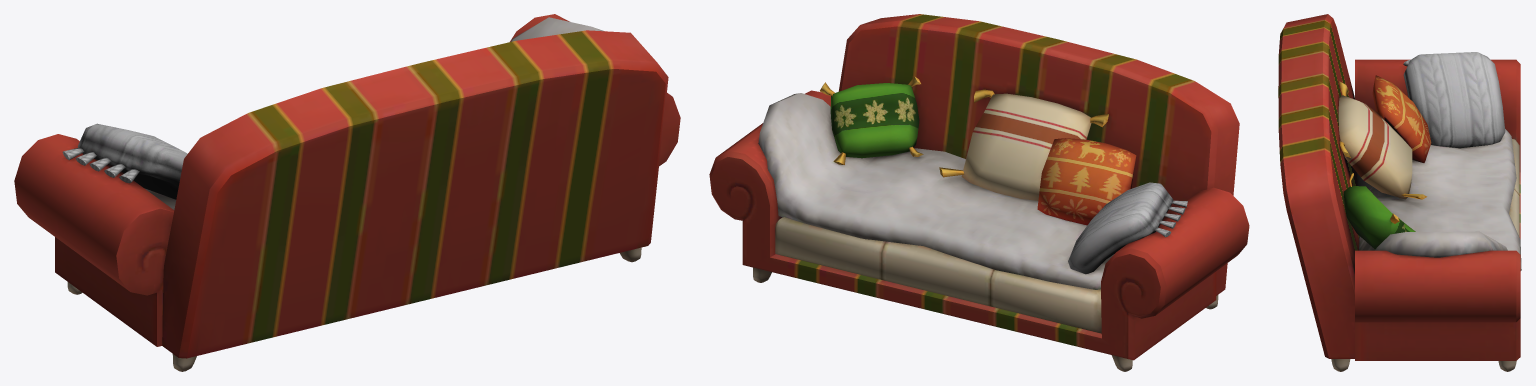
Rendered from furn_sd2016_sofa_001.gltf.
The picture shows the model from 3 angles, left to right: view 1: azimuth 30°, elevation 25°; view 2: azimuth 150°, elevation 25°; view 3: azimuth 270°, elevation 25°; orthographic projection. The views are drawn at different scales.
Parts seen in each view (by area): view 1: sd2016_sofa_001; view 2: sd2016_sofa_001; view 3: sd2016_sofa_001.
Boxes of the visible parts, x1,y1,x2,y2 form: sd2016_sofa_001: (14, 14, 680, 371); sd2016_sofa_001: (709, 14, 1249, 371); sd2016_sofa_001: (1278, 14, 1521, 371).
Bounding box in the file's own units: 1.33 × 0.5838 × 0.6244.
1 material, 1 textured.
